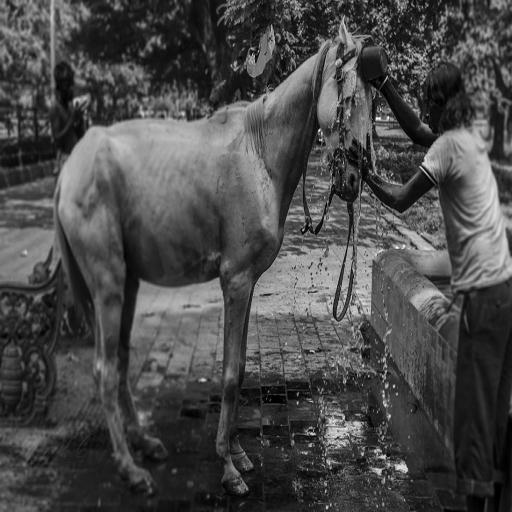Horse: (50, 11, 379, 497)
